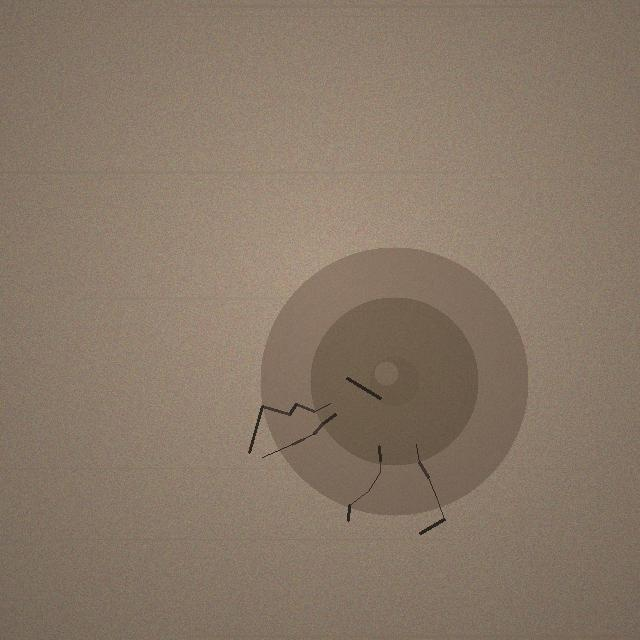crack: (260, 247, 528, 515)
